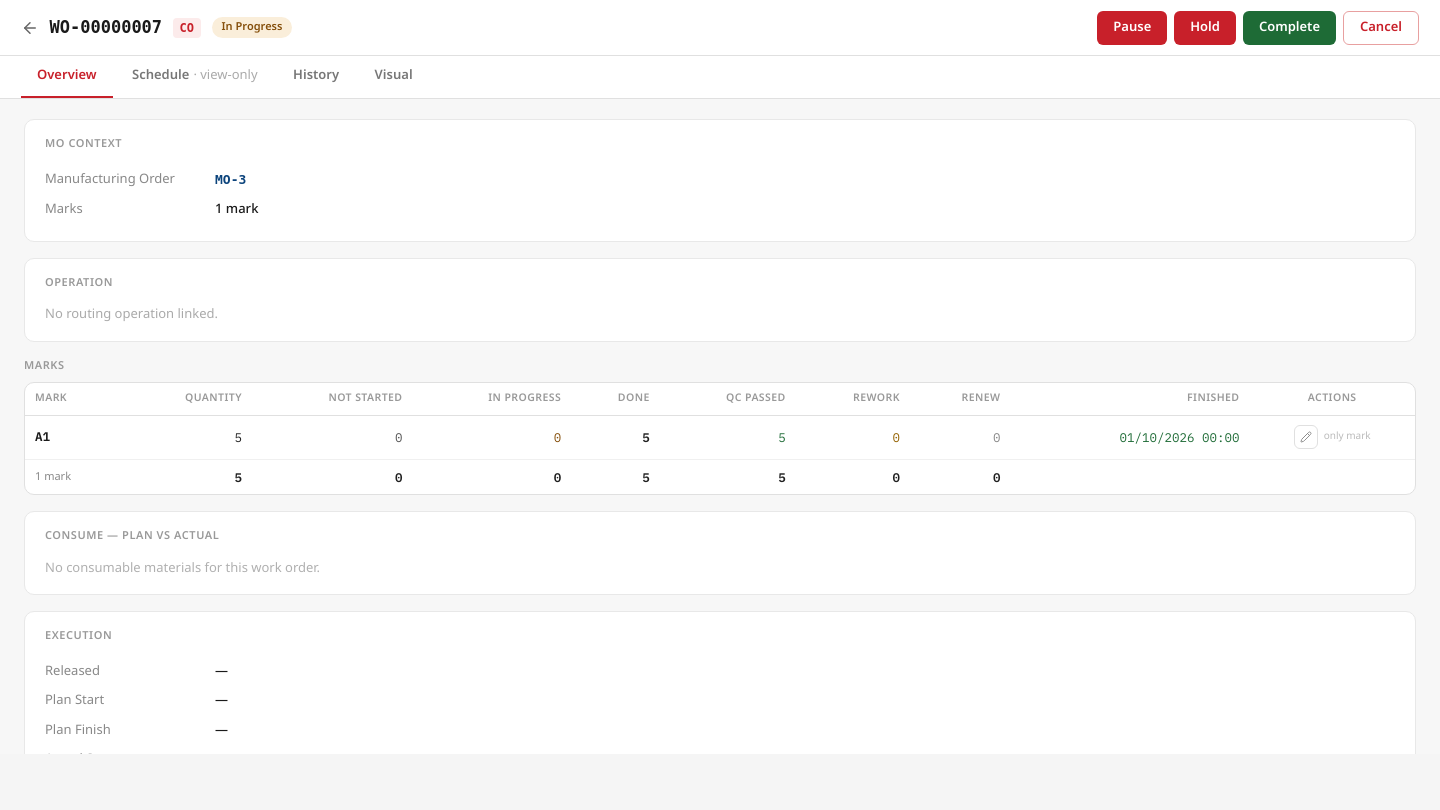
Scenario: WoDetail — History tab › shows a PROGRESS_UPDATE as a progress card: its mark with each quantity old → new
Step 1. Click the button "History" → (316, 77), box [277,56,355,98]
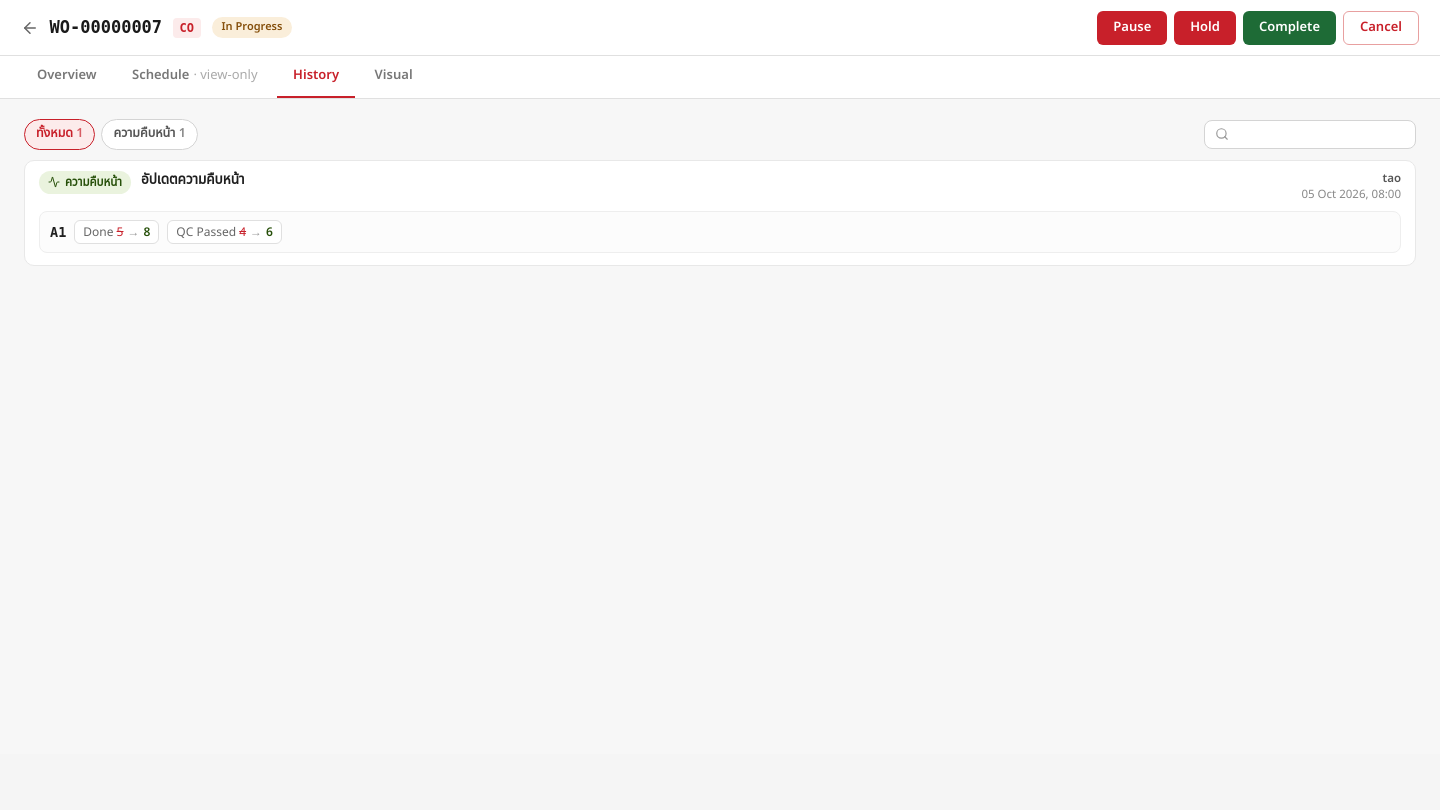
Expected: the text "A1" is shown, [50,222,66,242]
Now the text "อัปเดตความคืบหน้า" is shown, box [141,170,244,190]
Now the text "8" is shown, box [144,223,150,241]
